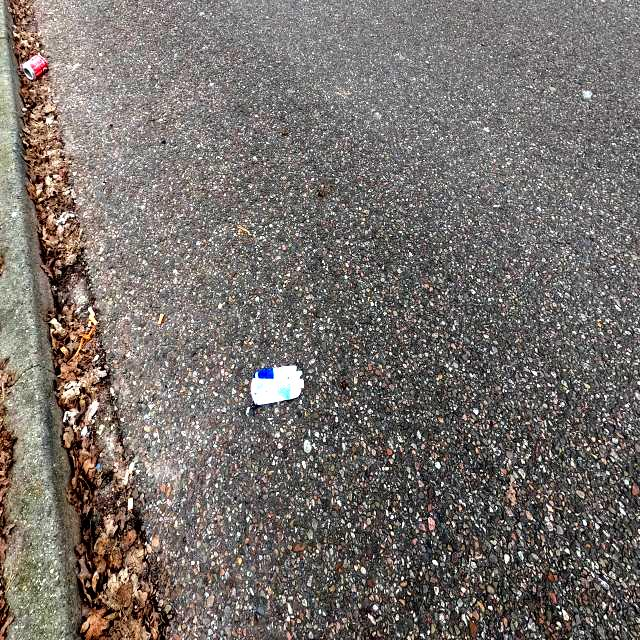Metal: (248, 356, 318, 414)
